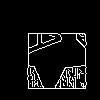A: (26, 21, 72, 57)
